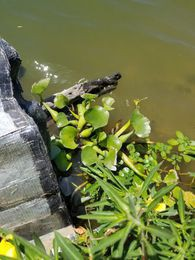water_hyacinth: (29, 75, 153, 173)
